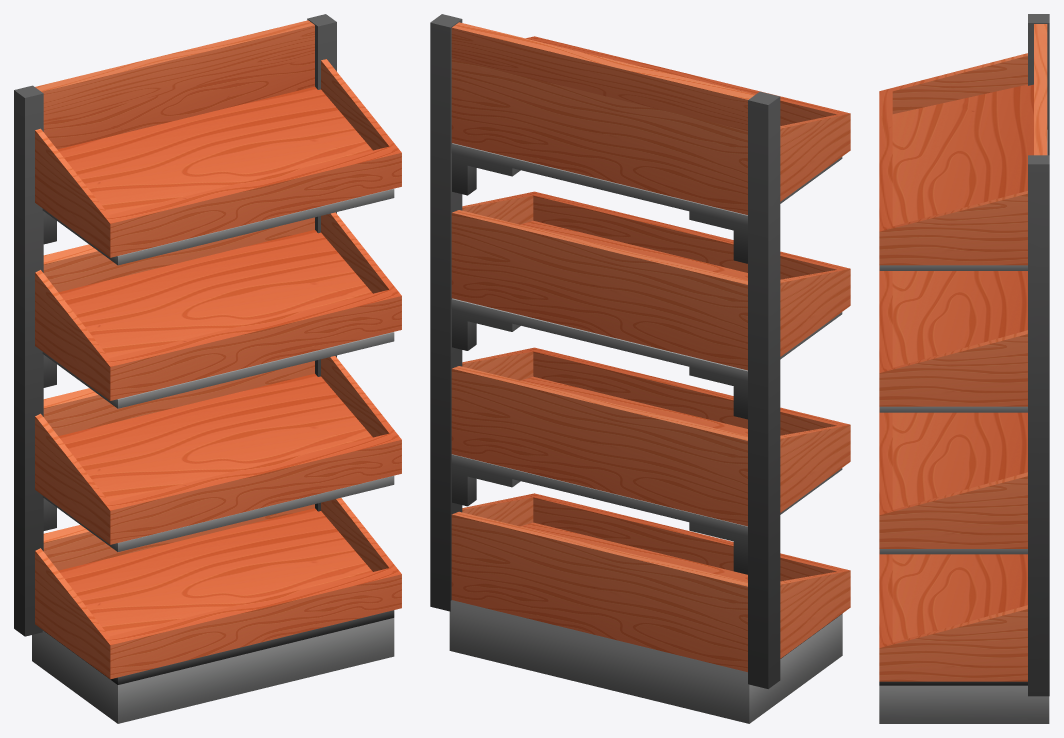
File: fruit shelf single.fbx
The picture shows the model from 3 angles, left to right: view 1: azimuth 30°, elevation 25°; view 2: azimuth 150°, elevation 25°; view 3: azimuth 270°, elevation 25°; orthographic projection. The views are drawn at different scales.
Visible parts, largest first — view 1: Cube.060, Cube.059; view 2: Cube.060, Cube.059; view 3: Cube.060, Cube.059.
Boxes of the visible parts, box(x1,y1,x2,y2) form: Cube.060: box(35, 20, 401, 679); Cube.059: box(14, 14, 394, 723); Cube.060: box(451, 22, 850, 672); Cube.059: box(430, 14, 842, 723); Cube.060: box(879, 24, 1047, 681); Cube.059: box(879, 14, 1049, 723).
Bounding box in the file's own units: 38.13 × 67.18 × 18.25.
2 materials, 2 textured.
